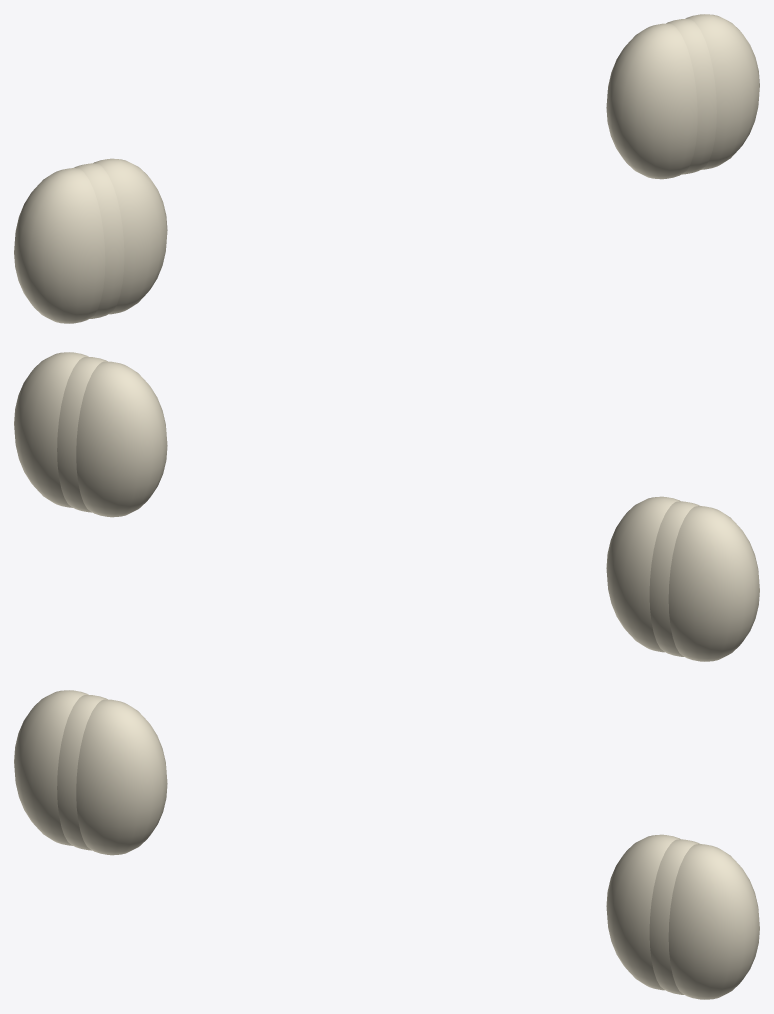
Rendered from ear.glb.
3 renders of one model, top to bottom at view 1: azimuth 30°, elevation 25°; view 2: azimuth 150°, elevation 25°; view 3: azimuth 330°, elevation 25°, orthographic.
Parts seen in each view (by area): view 1: dev-marker-malleus-left, dev-marker-stapes-right, dev-marker-malleus-right, dev-marker-stapes-left, dev-marker-incus-left, dev-marker-incus-right; view 2: dev-marker-malleus-left, dev-marker-stapes-right, dev-marker-malleus-right, dev-marker-stapes-left, dev-marker-incus-left, dev-marker-incus-right; view 3: dev-marker-malleus-right, dev-marker-stapes-left, dev-marker-malleus-left, dev-marker-stapes-right, dev-marker-incus-right, dev-marker-incus-left.
Part boxes in pixels (x1,y1,x2,y2): dev-marker-malleus-left: (606,23,697,179); dev-marker-stapes-right: (14,168,105,323); dev-marker-malleus-right: (93,158,167,314); dev-marker-stapes-left: (685,14,759,169); dev-marker-incus-left: (666,18,716,174); dev-marker-incus-right: (74,163,124,318); dev-marker-malleus-left: (76,361,167,517); dev-marker-stapes-right: (668,506,759,661); dev-marker-malleus-right: (606,496,680,652); dev-marker-stapes-left: (14,352,88,507); dev-marker-incus-left: (57,356,107,512); dev-marker-incus-right: (649,501,699,656); dev-marker-malleus-right: (76,699,167,855); dev-marker-stapes-left: (668,844,759,999); dev-marker-malleus-left: (606,834,680,990); dev-marker-stapes-right: (14,690,88,845); dev-marker-incus-right: (57,694,107,850); dev-marker-incus-left: (649,839,699,994).
Size of the model in its own units: 0.77 by 0.15 by 0.09.
